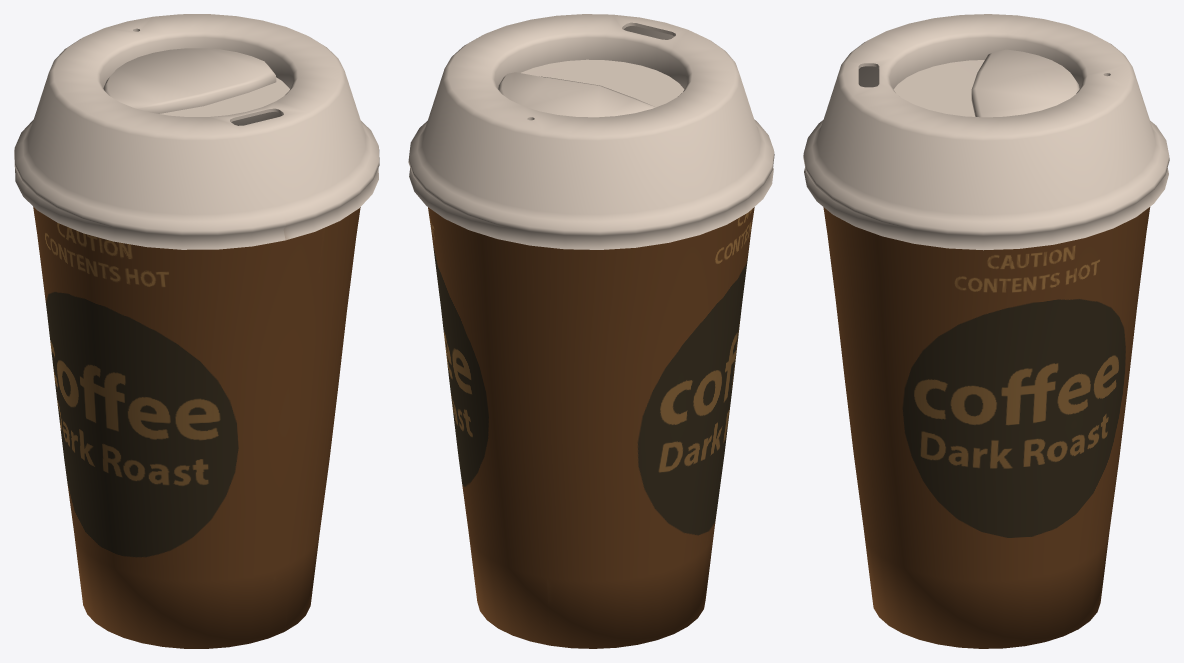
Rendered from Paper_coffee_cup.fbx.
3 views of the same model, side by side, from view 1: azimuth 30°, elevation 25°; view 2: azimuth 150°, elevation 25°; view 3: azimuth 270°, elevation 25° (orthographic).
Visible parts, largest first — view 1: cup, lid; view 2: cup, lid; view 3: cup, lid.
Boxes of the visible parts, x1=… form: cup: x1=33, y1=206, x2=360, y2=648; lid: x1=14, y1=14, x2=379, y2=249; cup: x1=428, y1=207, x2=754, y2=648; lid: x1=408, y1=14, x2=774, y2=249; cup: x1=823, y1=207, x2=1150, y2=648; lid: x1=803, y1=14, x2=1169, y2=250.
Bounding box in the file's own units: 310 × 493 × 310.
Materials: 2 (2 with a texture image).
